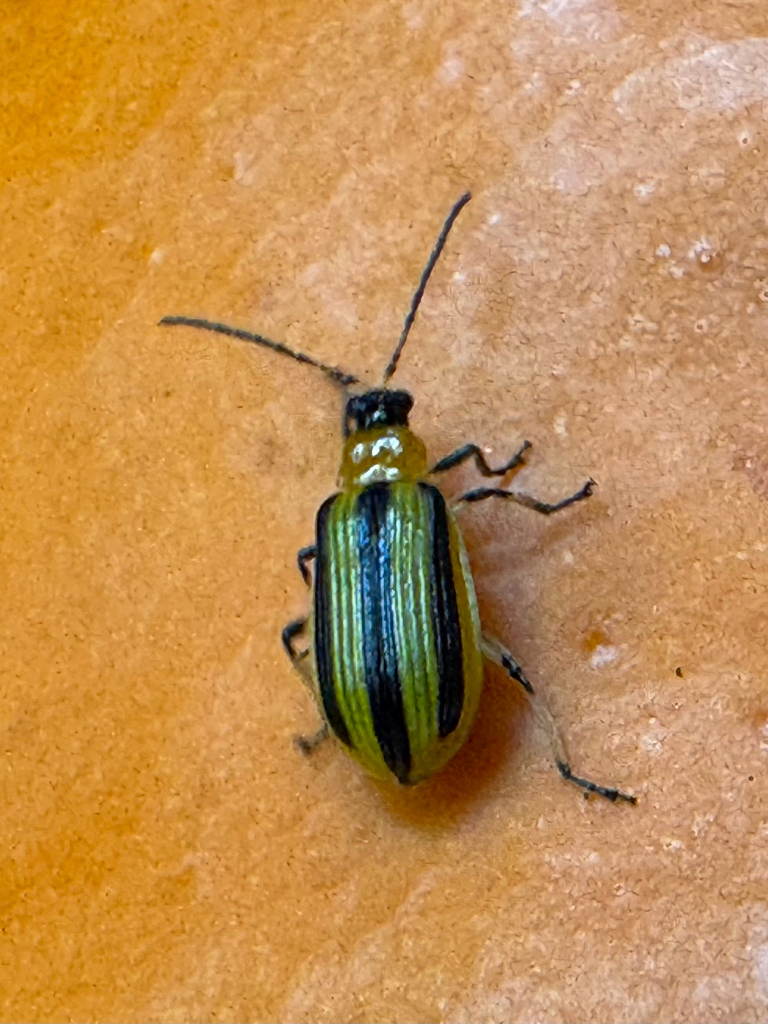potato_beetle: (15, 100, 757, 916)
